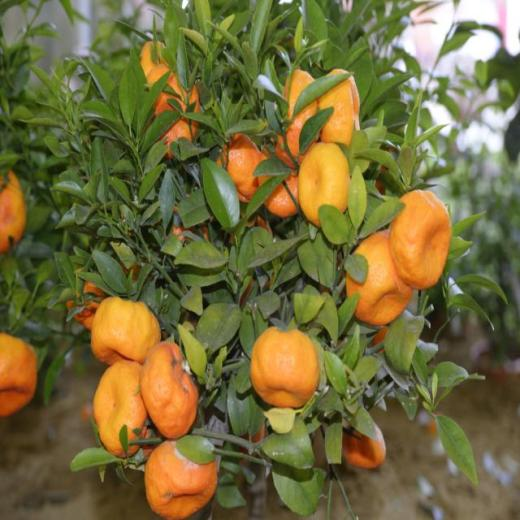Grape: (345, 228, 413, 326), (388, 189, 452, 290), (144, 434, 217, 520), (249, 325, 321, 409), (139, 340, 199, 440), (141, 64, 201, 158), (92, 360, 148, 457), (90, 295, 162, 366), (272, 69, 319, 168), (298, 141, 350, 228), (216, 132, 267, 204), (317, 67, 360, 147), (257, 139, 300, 217), (0, 332, 37, 418), (65, 267, 106, 331), (0, 167, 27, 253), (342, 419, 387, 470), (173, 192, 213, 246), (223, 212, 274, 245), (237, 421, 265, 461), (139, 41, 167, 78), (141, 425, 160, 461), (371, 326, 390, 353), (120, 258, 142, 280), (240, 277, 252, 308), (376, 164, 386, 194)
